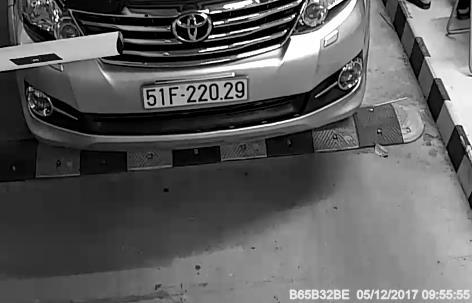License-plate: (134, 73, 254, 108)
